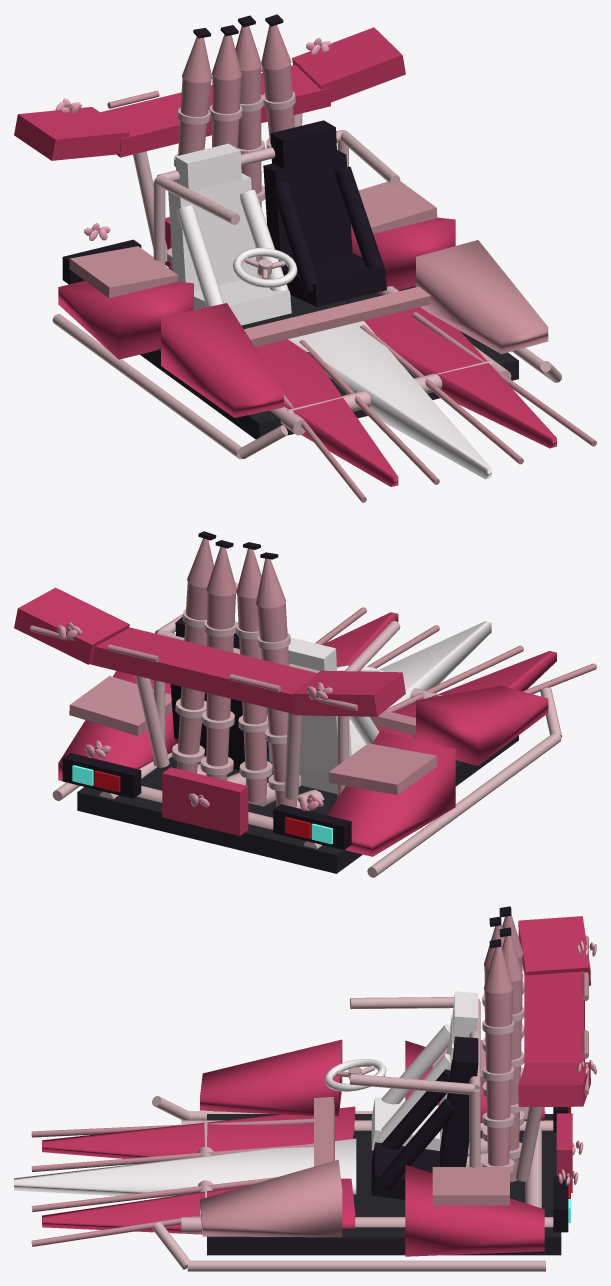
The model's file is A013-04-feiying--bosozoku-counterpart-runtime-v1.glb.
3 views of the same model, one above another, from view 1: azimuth 30°, elevation 25°; view 2: azimuth 150°, elevation 25°; view 3: azimuth 270°, elevation 25° (orthographic). The views are drawn at different scales.
Visible parts, largest first — view 1: LP05B_Body_Part_01; view 2: LP05B_Body_Part_01; view 3: LP05B_Body_Part_01.
Part boxes in pixels (x1=…): LP05B_Body_Part_01: x1=14, y1=14, x2=596, y2=502; LP05B_Body_Part_01: x1=14, y1=531, x2=596, y2=877; LP05B_Body_Part_01: x1=14, y1=906, x2=596, y2=1271.
Bounding box in the file's own units: 0.7 × 0.5146 × 1.
